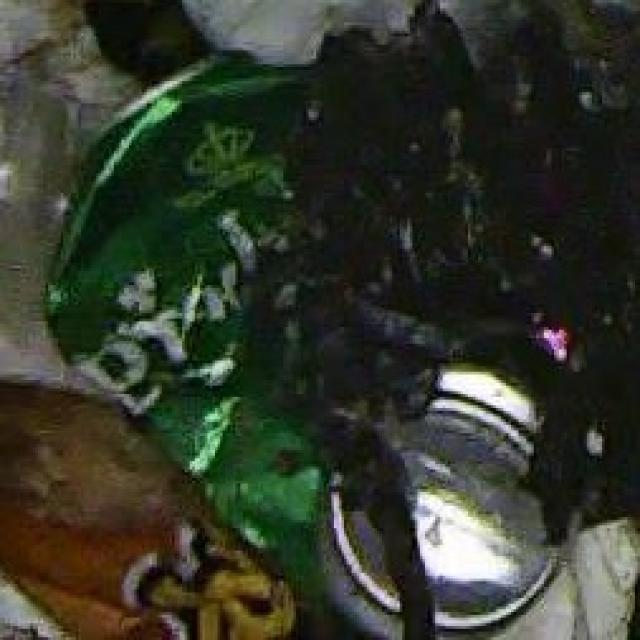can: (43, 41, 596, 622)
